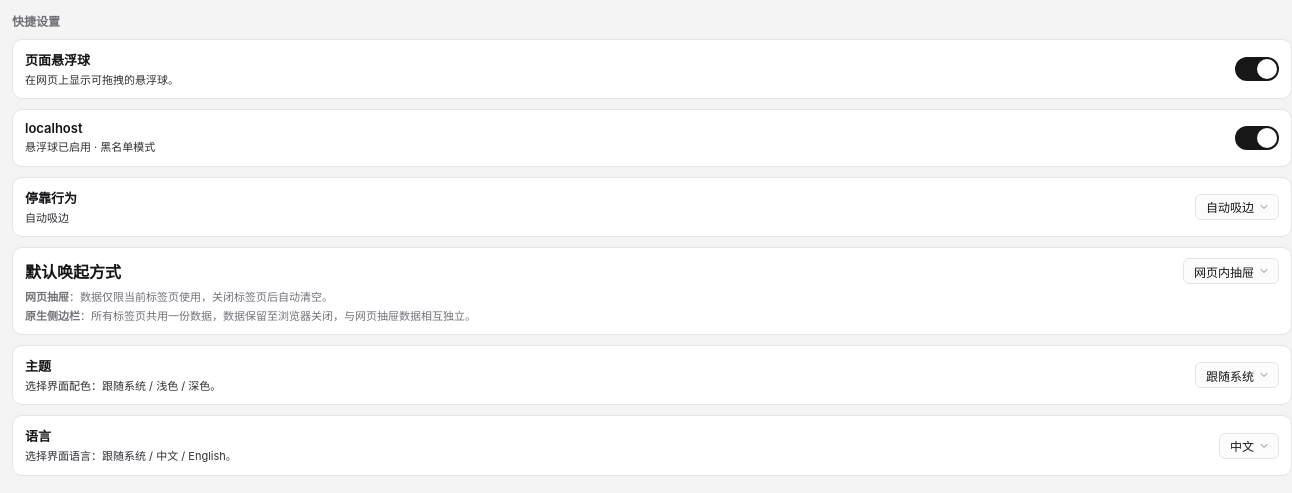
Test: QuickSettings 本站悬浮球开关（域名规则联动） › 黑名单模式：默认允许 → 点击加入本站 → 隐藏 → 再点移除恢复
The image size is (1292, 493).
Step 1. Click the switch named "在此网站禁用" → (1257, 138), box [1235,126,1279,150]
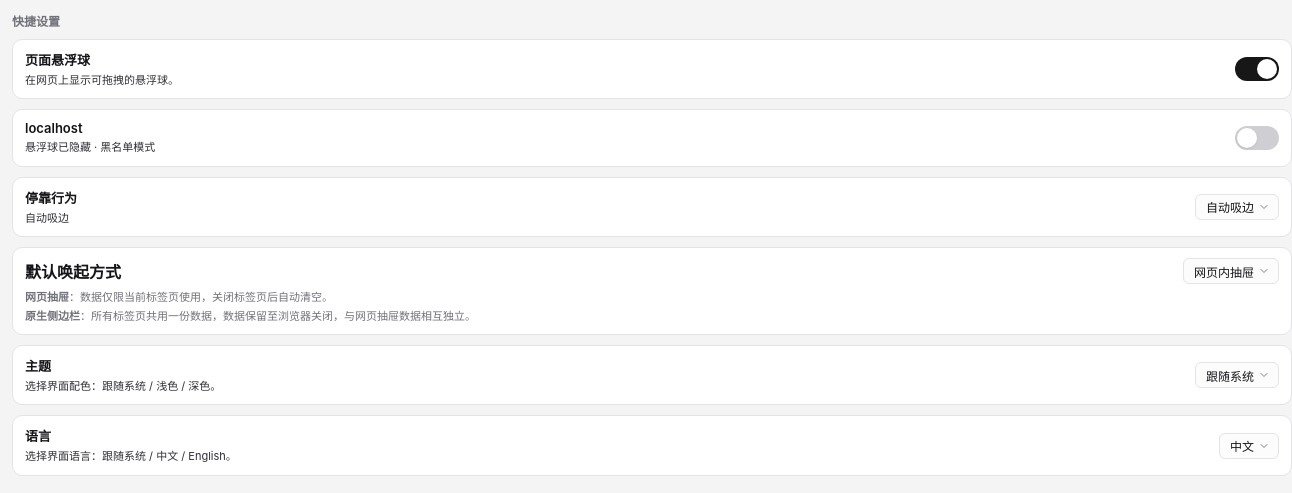
Check: the list item "localhost 悬浮球已隐藏 · 黑名单模式" is shown, box [12,109,1291,167]
Step 2. Click the switch named "在此网站启用" → (1257, 138), box [1235,126,1279,150]
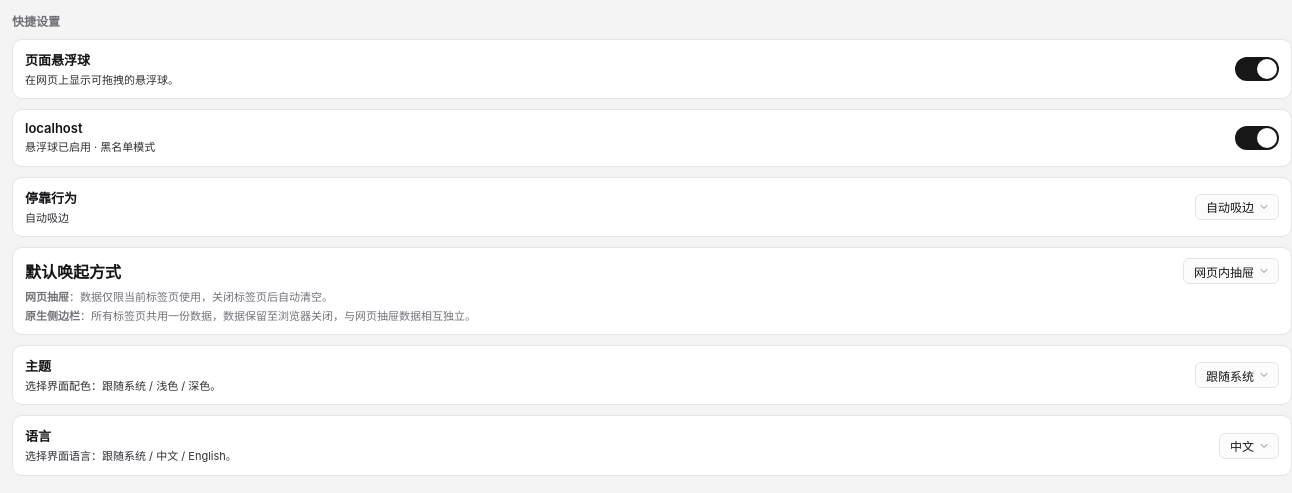
Check: the list item "localhost 悬浮球已启用 · 黑名单模式" is shown, box [12,109,1291,167]
